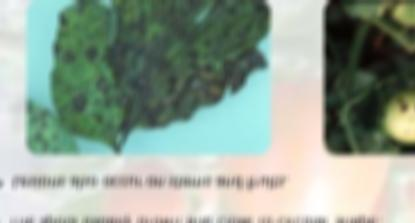Tomato leaf bacterial spot: (52, 0, 273, 147)
